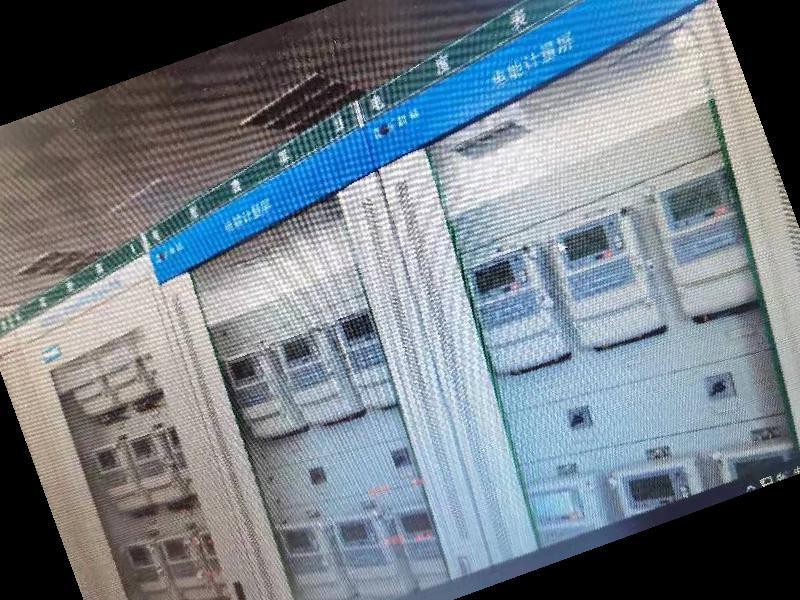digital: (550, 211, 661, 350), (655, 167, 755, 319), (462, 249, 563, 373), (274, 330, 353, 427), (223, 352, 294, 441), (333, 515, 405, 599), (336, 309, 395, 409), (272, 525, 347, 598), (611, 462, 702, 517), (524, 480, 598, 547), (125, 435, 183, 508), (398, 509, 449, 588), (94, 445, 147, 515), (161, 535, 214, 598), (716, 445, 795, 483), (101, 348, 145, 406), (124, 544, 168, 599), (67, 361, 111, 414), (198, 531, 227, 598), (165, 427, 193, 496), (139, 347, 161, 394)
